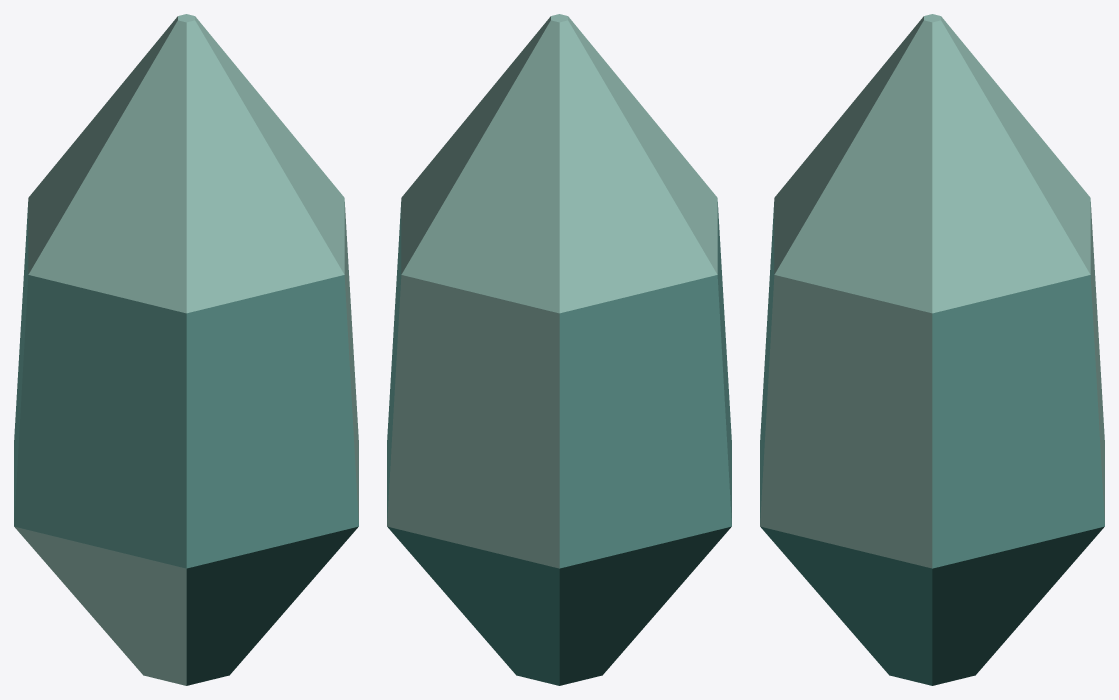
File: currency-crystal.glb
The picture shows the model from 3 angles, left to right: view 1: azimuth 30°, elevation 25°; view 2: azimuth 150°, elevation 25°; view 3: azimuth 270°, elevation 25°; orthographic projection.
Parts seen in each view (by area): view 1: currency-crystal; view 2: currency-crystal; view 3: currency-crystal.
Part boxes in pixels (x1,y1,x2,y2): currency-crystal: [14, 14, 358, 685]; currency-crystal: [387, 14, 731, 685]; currency-crystal: [760, 14, 1104, 685].
Size of the model in its own units: 0.48 by 0.86 by 0.4157.
